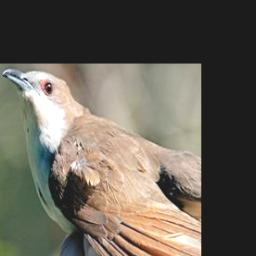Cuckoo: (2, 69, 201, 256)
